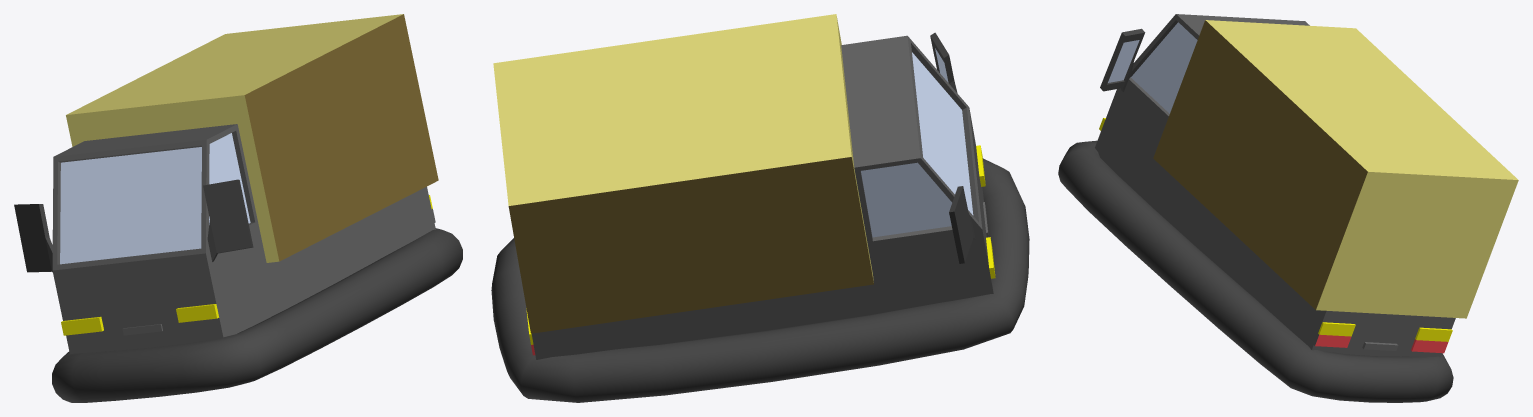
File: car6.fbx
3 renders of one model, left to right at view 1: azimuth 30°, elevation 25°; view 2: azimuth 150°, elevation 25°; view 3: azimuth 270°, elevation 25°, orthographic. The views are drawn at different scales.
Visible parts, largest first — view 1: car.005, airCussion.005, sideMirrorLeft.005, sideMirrorRight.005; view 2: car.005, airCussion.005, sideMirrorRight.005, sideMirrorLeft.005; view 3: car.005, airCussion.005, sideMirrorLeft.005.
Boxes of the visible parts, left/top/right/bottom form: car.005: left=52, top=14, right=438, bottom=354; airCussion.005: left=52, top=228, right=462, bottom=402; sideMirrorLeft.005: left=203, top=179, right=253, bottom=261; sideMirrorRight.005: left=14, top=204, right=52, bottom=272; car.005: left=493, top=14, right=995, bottom=359; airCussion.005: left=491, top=158, right=1029, bottom=402; sideMirrorRight.005: left=949, top=186, right=975, bottom=263; sideMirrorLeft.005: left=930, top=32, right=957, bottom=92; car.005: left=1095, top=14, right=1518, bottom=357; airCussion.005: left=1058, top=140, right=1453, bottom=402; sideMirrorLeft.005: left=1100, top=28, right=1145, bottom=91.
Size of the model in its own units: 95.37 by 66.06 by 91.25.
